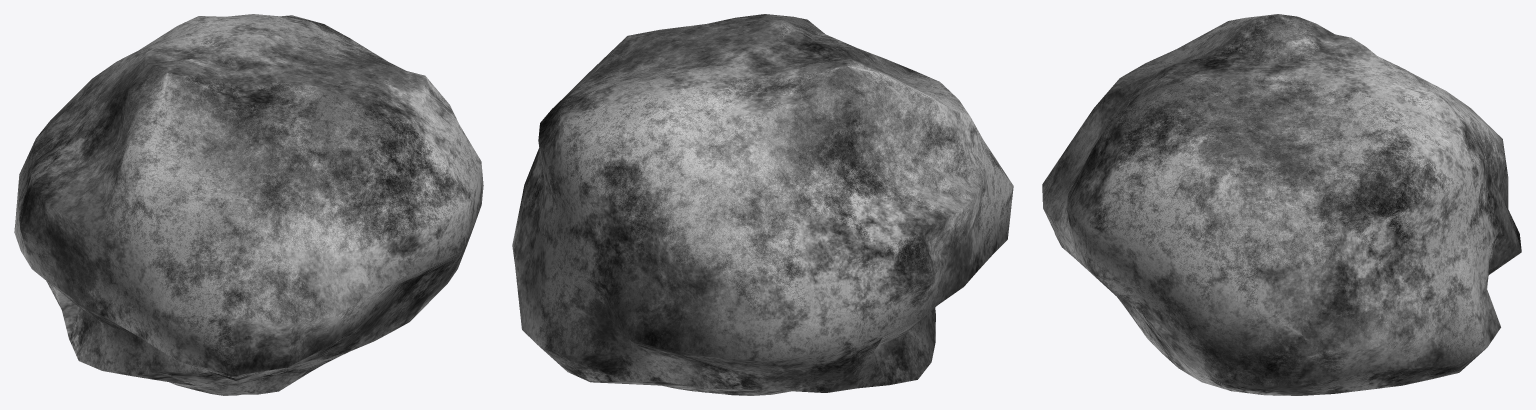
File: Meteoroid01a.fbx
3 views of the same model, side by side, from view 1: azimuth 30°, elevation 25°; view 2: azimuth 150°, elevation 25°; view 3: azimuth 270°, elevation 25° (orthographic). The views are drawn at different scales.
Parts seen in each view (by area): view 1: Meteoroid01a; view 2: Meteoroid01a; view 3: Meteoroid01a.
Boxes of the visible parts, <box> form: Meteoroid01a: <box>14,14,483,395</box>; Meteoroid01a: <box>512,14,1013,395</box>; Meteoroid01a: <box>1042,14,1521,395</box>.
Size of the model in its own units: 432 by 329 by 445.
